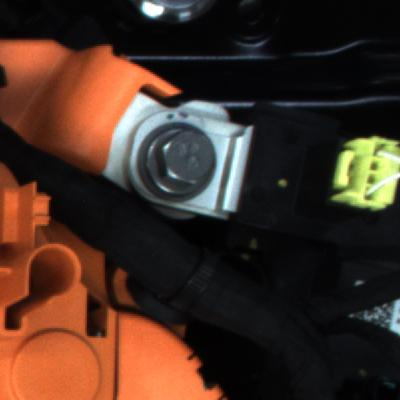nut_b: (128, 116, 236, 210)
